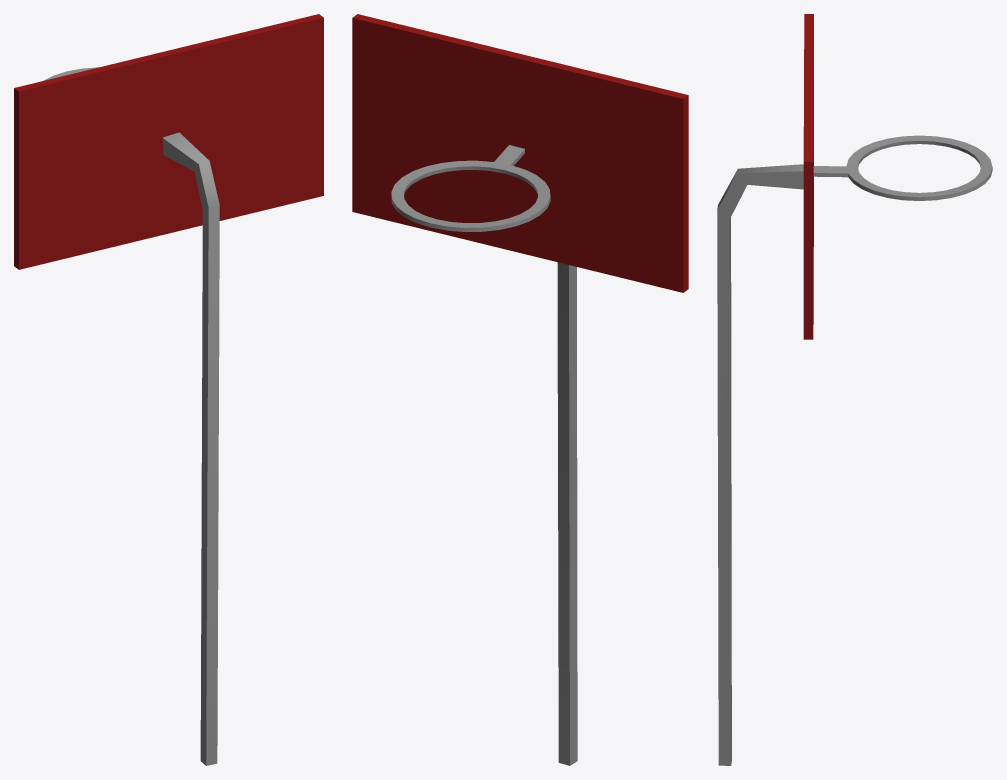
File: MOD_Panierbasket.FBX
3 views of the same model, side by side, from view 1: azimuth 30°, elevation 25°; view 2: azimuth 150°, elevation 25°; view 3: azimuth 270°, elevation 25° (orthographic). The views are drawn at different scales.
Visible parts, largest first — view 1: MOD_panierbasket; view 2: MOD_panierbasket; view 3: MOD_panierbasket.
Part boxes in pixels (<box>): MOD_panierbasket: <box>14,14,323,765</box>; MOD_panierbasket: <box>352,14,688,765</box>; MOD_panierbasket: <box>717,14,992,765</box>.
Bounding box in the file's own units: 1.69 × 3.59 × 1.33.
